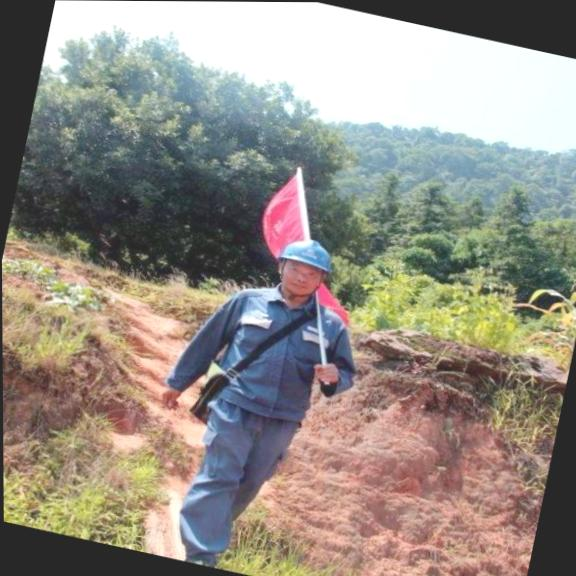no_safety_vest: (207, 286, 340, 427)
